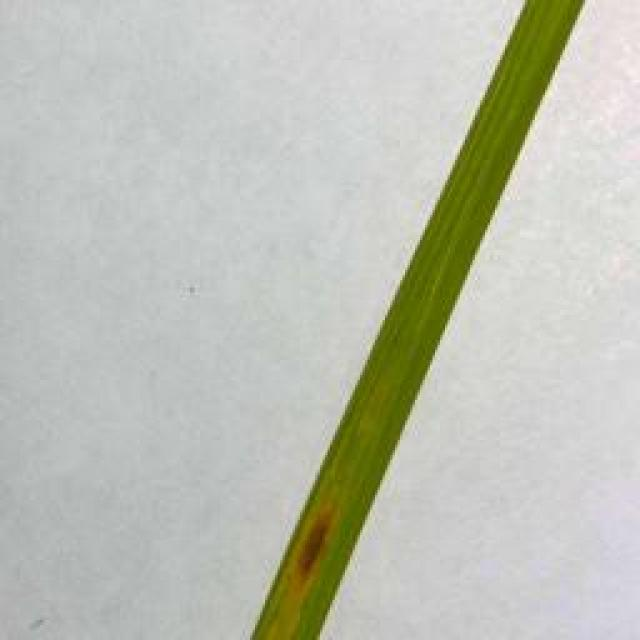Brown_Spot: (249, 473, 373, 616)
